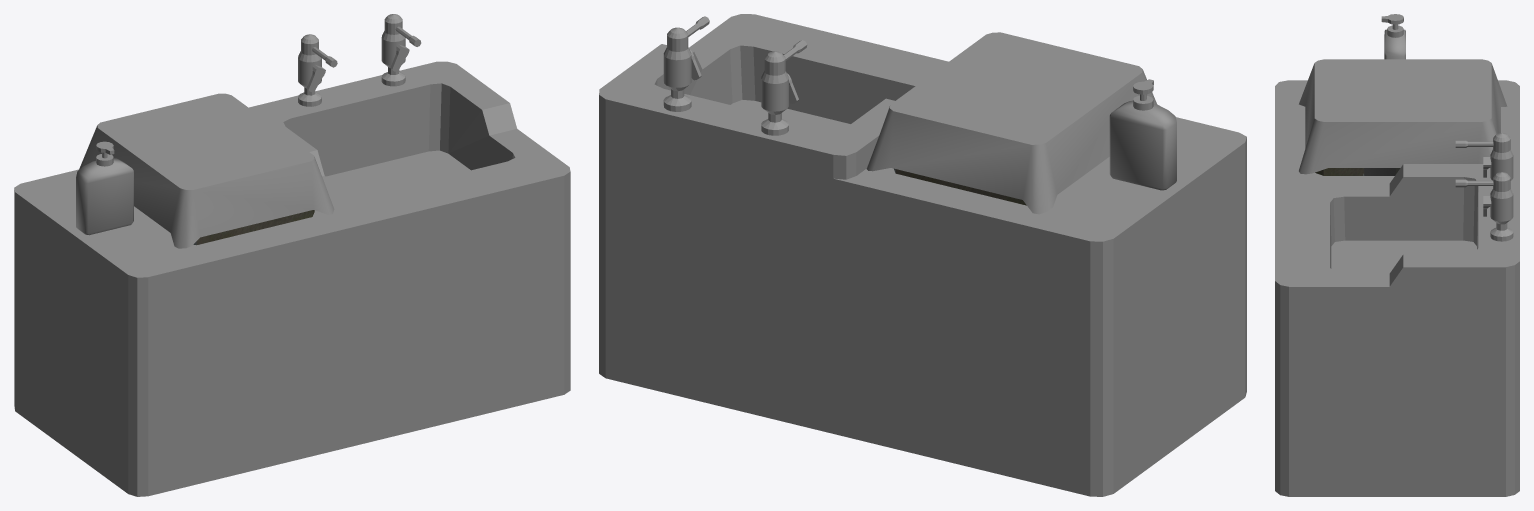
The picture shows the model from 3 angles, left to right: view 1: azimuth 30°, elevation 25°; view 2: azimuth 150°, elevation 25°; view 3: azimuth 270°, elevation 25°; orthographic projection. The views are drawn at different scales.
Parts seen in each view (by area): view 1: 3150030_1, 3150030_a, xishouye, 3150030_b; view 2: 3150030_1, 3150030_a, xishouye, 3150030_b; view 3: 3150030_1, 3150030_a, xishouye, 3150030_b.
Boxes of the visible parts, bbox=[...] form: 3150030_1: bbox=[14, 14, 570, 496]; 3150030_a: bbox=[79, 93, 334, 248]; xishouye: bbox=[76, 141, 133, 235]; 3150030_b: bbox=[193, 210, 314, 245]; 3150030_1: bbox=[599, 14, 1246, 496]; 3150030_a: bbox=[866, 32, 1157, 214]; xishouye: bbox=[1109, 79, 1176, 190]; 3150030_b: bbox=[894, 168, 1026, 205]; 3150030_1: bbox=[1275, 80, 1519, 496]; 3150030_a: bbox=[1299, 59, 1507, 174]; xishouye: bbox=[1381, 14, 1405, 59]; 3150030_b: bbox=[1315, 168, 1400, 175].
Bounding box in the file's own units: 150 × 74.98 × 99.39.
